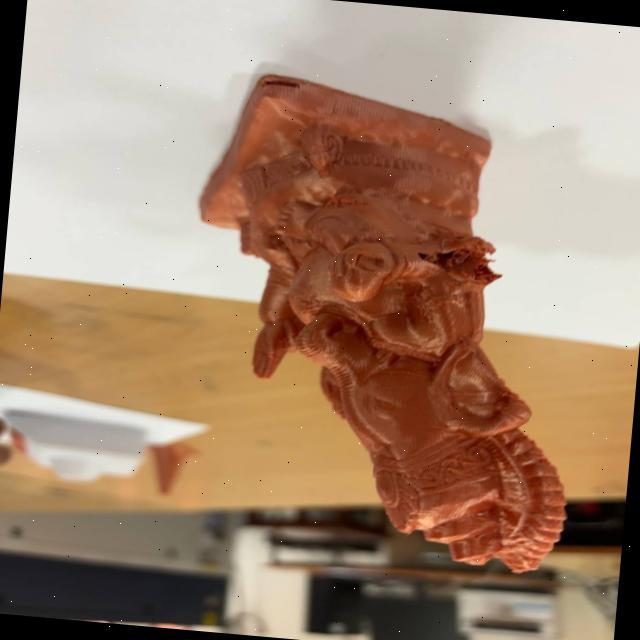cracks: (420, 220, 504, 291), (256, 60, 311, 111)
